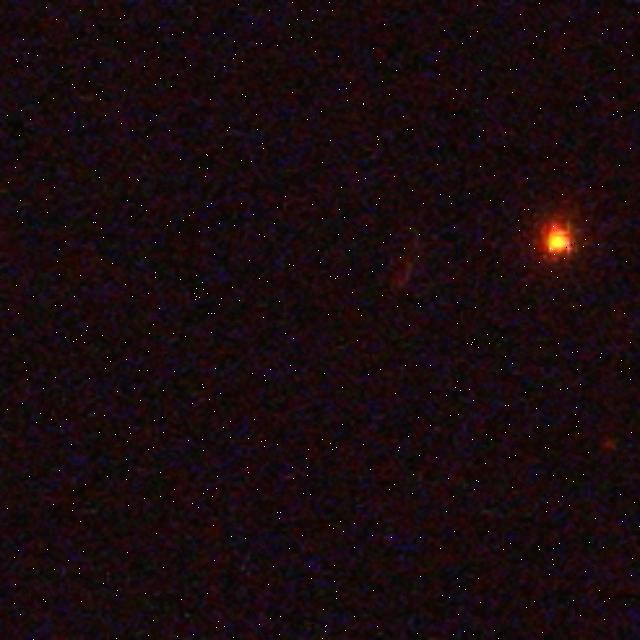microbeads: (544, 219, 578, 255)
